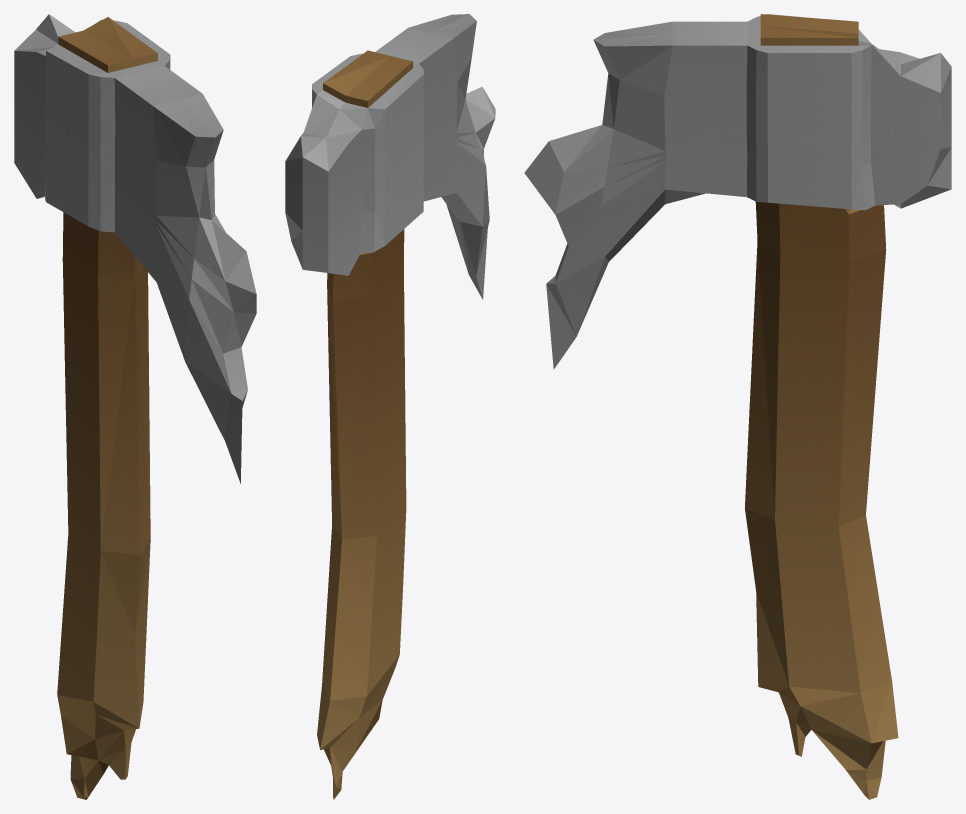
File: axe_a.obj
3 views of the same model, side by side, from view 1: azimuth 30°, elevation 25°; view 2: azimuth 150°, elevation 25°; view 3: azimuth 270°, elevation 25° (orthographic). The views are drawn at different scales.
Visible parts, largest first — view 1: axe_a_Material; view 2: axe_a_Material; view 3: axe_a_Material.
Part boxes in pixels (<box>): axe_a_Material: <box>14,14,256,799</box>; axe_a_Material: <box>285,14,495,799</box>; axe_a_Material: <box>524,14,951,799</box>.
Bounding box in the file's own units: 0.0601 × 0.5512 × 0.2773.
